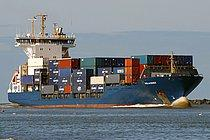Ship: (4, 13, 207, 109)
